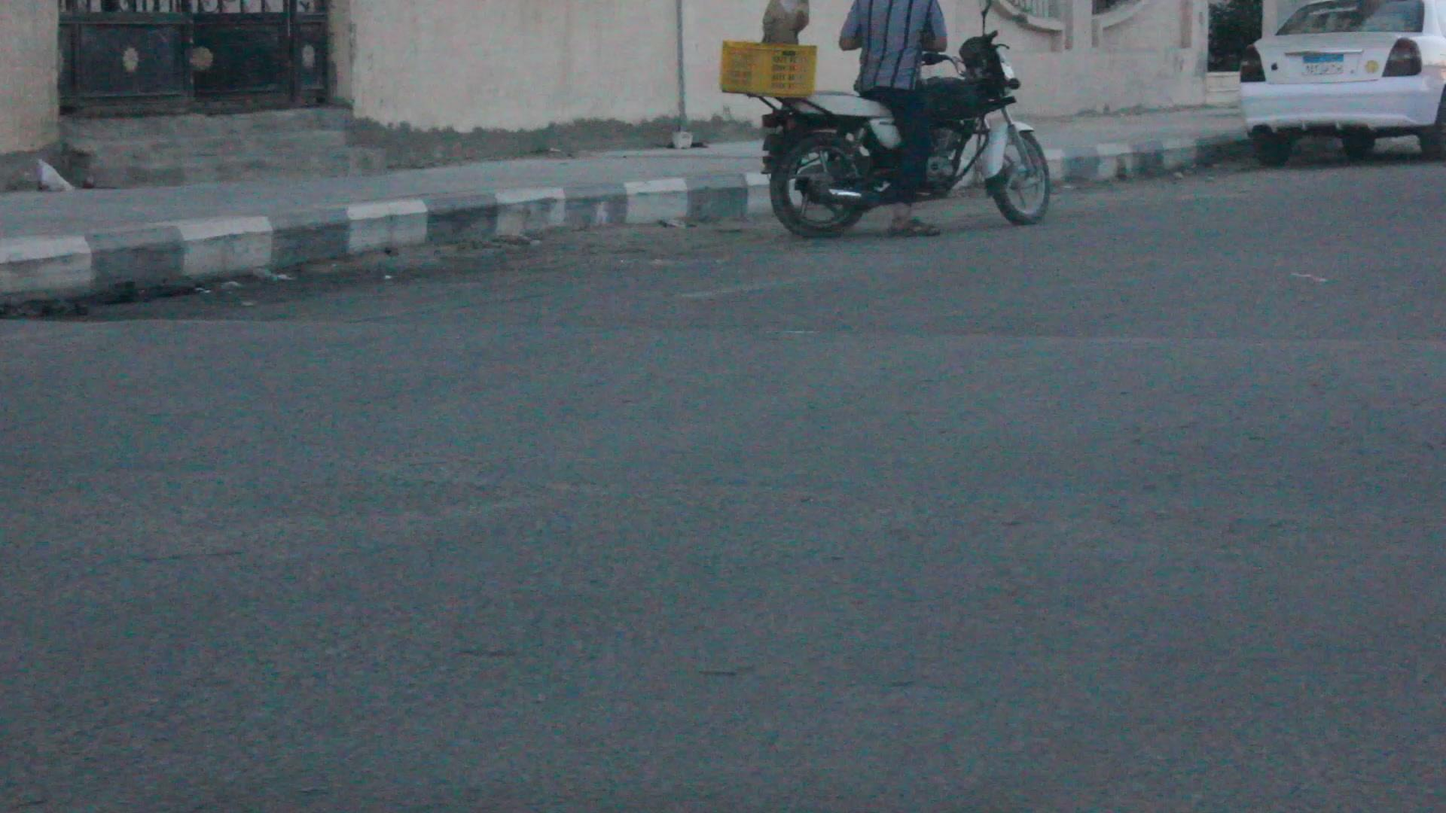Bump: (0, 312, 1446, 538)
